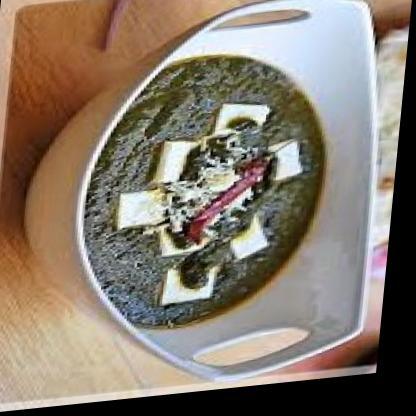palak_paneer: (78, 50, 339, 341)
